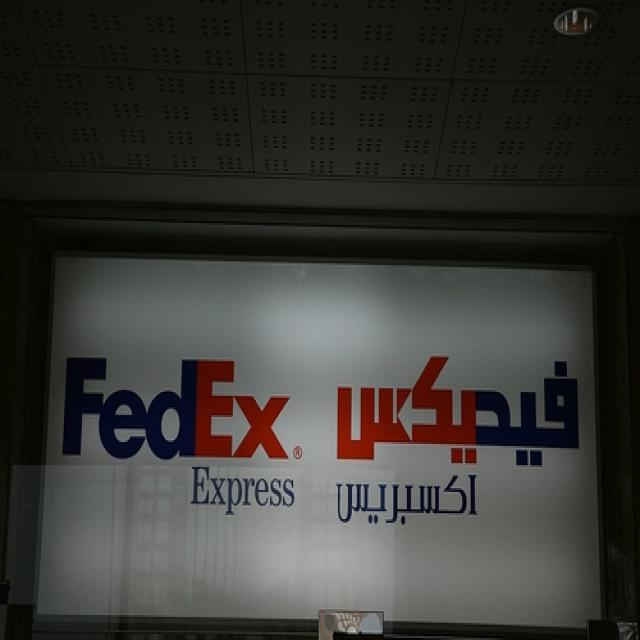fedex: (60, 353, 297, 466)
